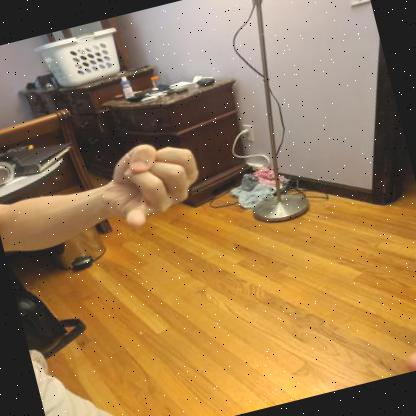J: (102, 144, 199, 227)
